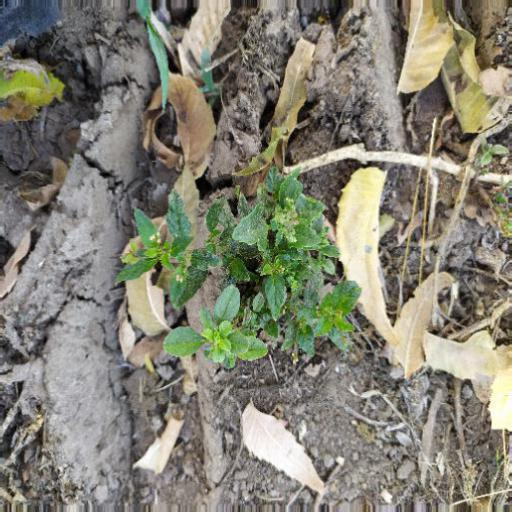weed: (123, 166, 381, 388)
